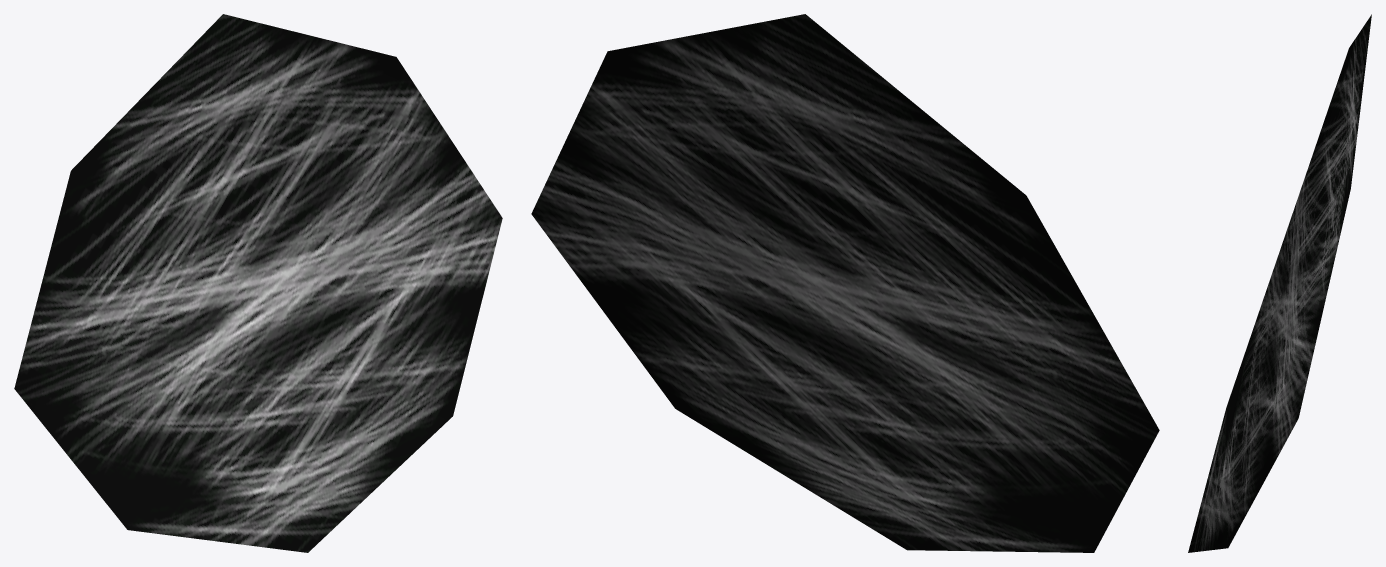
File: MIRKWOOD_SPIDERWEB_COVERS18.fbx
The picture shows the model from 3 angles, left to right: view 1: azimuth 30°, elevation 25°; view 2: azimuth 150°, elevation 25°; view 3: azimuth 270°, elevation 25°; orthographic projection. The views are drawn at different scales.
Parts seen in each view (by area): view 1: MIRKWOOD_SPIDERWEB_COVERS18; view 2: MIRKWOOD_SPIDERWEB_COVERS18; view 3: MIRKWOOD_SPIDERWEB_COVERS18.
Part boxes in pixels (x1,y1,x2,y2): MIRKWOOD_SPIDERWEB_COVERS18: (14, 14, 502, 552); MIRKWOOD_SPIDERWEB_COVERS18: (531, 14, 1159, 552); MIRKWOOD_SPIDERWEB_COVERS18: (1188, 14, 1371, 552).
Bounding box in the file's own units: 14794 × 13848 × 4296.
Materials: 1 (1 with a texture image).
